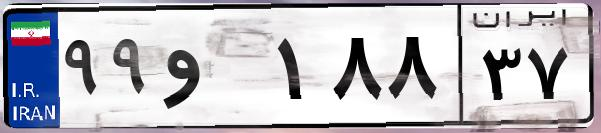1: (270, 28, 330, 110)
3: (475, 38, 525, 113)
7: (525, 38, 570, 115)
8: (385, 28, 445, 110), (330, 28, 385, 110)
9: (57, 26, 110, 100), (110, 28, 158, 98)
و: (158, 20, 270, 120)
